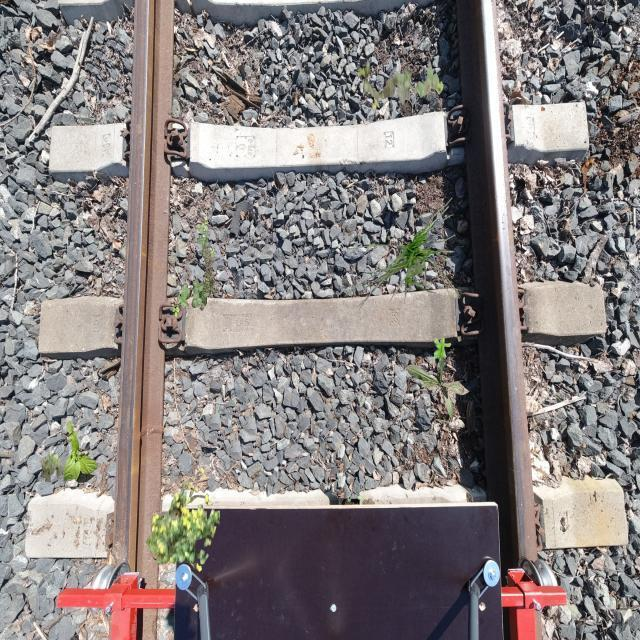Plant: (344, 197, 462, 320), (146, 467, 221, 572), (406, 339, 470, 423), (171, 215, 220, 318), (357, 60, 444, 111), (63, 421, 98, 484), (40, 451, 66, 483), (434, 337, 452, 361)
